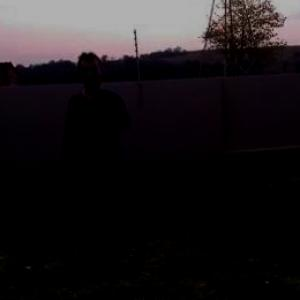takeoff-hand: (97, 99, 131, 134)
